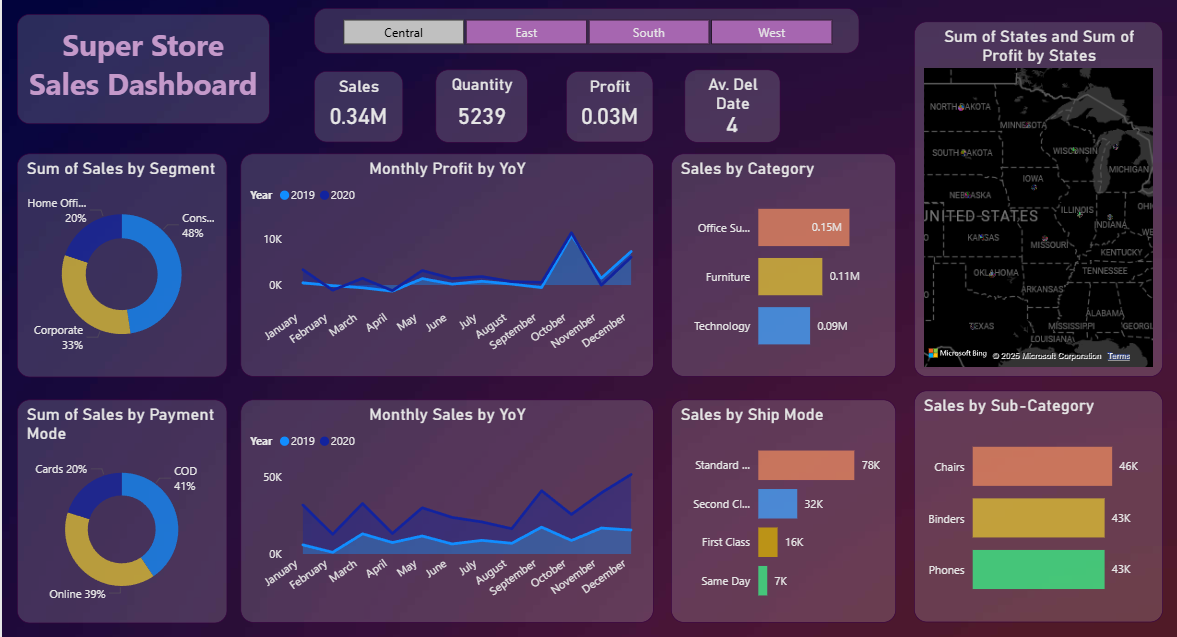

What the dashboard file says about the page in this screenshot:
{"tool":"powerbi","page":{"name":"Page 1","canvas":[1280,720],"ordinal":0},"visuals":[{"type":"clusteredBarChart","title":"Sales by Category ","fields":{"Category":["SuperStore_Sales_Dataset.Category"],"Y":["Sum(SuperStore_Sales_Dataset.Sales)"]},"box":[725.7,173.9,243.8,241.9],"z":0},{"type":"clusteredBarChart","title":"Sales by Sub-Category ","fields":{"Category":["SuperStore_Sales_Dataset.Sub-Category"],"Y":["Sum(SuperStore_Sales_Dataset.Sales)"]},"box":[988.4,430.9,270.2,251.3],"z":1000},{"type":"clusteredBarChart","title":"Sales by Ship Mode ","fields":{"Category":["SuperStore_Sales_Dataset.Ship Mode"],"Y":["Sum(SuperStore_Sales_Dataset.Sales)"]},"box":[725.7,440.3,243.8,241.9],"z":2000},{"type":"stackedAreaChart","title":"Monthly Sales by YoY","fields":{"Y":["Sum(SuperStore_Sales_Dataset.Sales)"],"Series":["SuperStore_Sales_Dataset.Order Date.Variation.Date Hierarchy.Year"],"Category":["SuperStore_Sales_Dataset.Order Date.Variation.Date Hierarchy.Month"]},"box":[258.9,440.3,447.9,241.9],"z":3000},{"type":"stackedAreaChart","title":"Monthly Profit by YoY","fields":{"Series":["SuperStore_Sales_Dataset.Order Date.Variation.Date Hierarchy.Year"],"Category":["SuperStore_Sales_Dataset.Order Date.Variation.Date Hierarchy.Month"],"Y":["Sum(SuperStore_Sales_Dataset.Profit)"]},"box":[258.9,173.9,447.9,241.9],"z":4000},{"type":"map","title":"Sum of States and Sum of Profit by States","fields":{"Category":["SuperStore_Sales_Dataset.State"],"Series":["SuperStore_Sales_Dataset.Sales"]},"box":[988.4,30.2,270.2,385.5],"z":5000},{"type":"donutChart","fields":{"Category":["SuperStore_Sales_Dataset.Segment"],"Y":["Sum(SuperStore_Sales_Dataset.Sales)"]},"box":[16.3,174,227.7,242.4],"z":6000},{"type":"donutChart","fields":{"Y":["Sum(SuperStore_Sales_Dataset.Sales)"],"Category":["SuperStore_Sales_Dataset.Payment Mode"]},"box":[16.3,440.8,227.7,242.4],"z":7000},{"type":"slicer","fields":{"Values":["SuperStore_Sales_Dataset.Region"]},"box":[338.3,17,591.5,49.1],"z":8000},{"type":"textbox","box":[17,22.7,274,119.1],"z":9000},{"type":"card","title":"Sales","fields":{"Values":["Sum(SuperStore_Sales_Dataset.Sales)"]},"box":[338.3,85,96.4,77.5],"z":10000},{"type":"card","title":"Quantity","fields":{"Values":["Sum(SuperStore_Sales_Dataset.Quantity)"]},"box":[470.6,83.2,100.2,79.4],"z":11000},{"type":"card","title":"Profit","fields":{"Values":["Sum(SuperStore_Sales_Dataset.Profit)"]},"box":[612.3,85,94.5,77.5],"z":12000},{"type":"card","title":"Av. Del Date","fields":{"Values":["Avg(SuperStore_Sales_Dataset.Average Delivery)"]},"box":[740.8,83.2,103.9,79.4],"z":13000}]}

Visuals, with their boxes on the page's 1280x720 design canvas (x1, y1, x2, y2). These are canvas units, not pixel positions in the 1177x637 screenshot, which may show the page scaled, cropped or inside an application window:
"Sales by Category " clusteredBarChart: 726/174/970/416
"Sales by Sub-Category " clusteredBarChart: 988/431/1259/682
"Sales by Ship Mode " clusteredBarChart: 726/440/970/682
"Monthly Sales by YoY" stackedAreaChart: 259/440/707/682
"Monthly Profit by YoY" stackedAreaChart: 259/174/707/416
"Sum of States and Sum of Profit by States" map: 988/30/1259/416
donutChart - SuperStore_Sales_Dataset.Segment x Sum(SuperStore_Sales_Dataset.Sales): 16/174/244/416
donutChart - Sum(SuperStore_Sales_Dataset.Sales) x SuperStore_Sales_Dataset.Payment Mode: 16/441/244/683
slicer - SuperStore_Sales_Dataset.Region: 338/17/930/66
textbox: 17/23/291/142
"Sales" card: 338/85/435/162
"Quantity" card: 471/83/571/163
"Profit" card: 612/85/707/162
"Av. Del Date" card: 741/83/845/163
